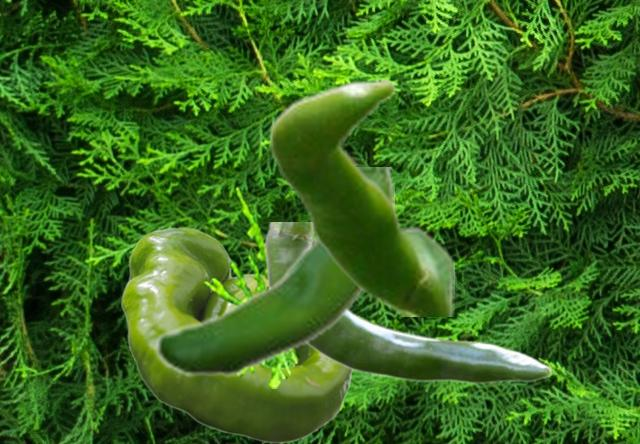green_chili: (153, 167, 393, 378), (121, 227, 352, 442), (264, 222, 550, 383), (268, 78, 453, 315)
